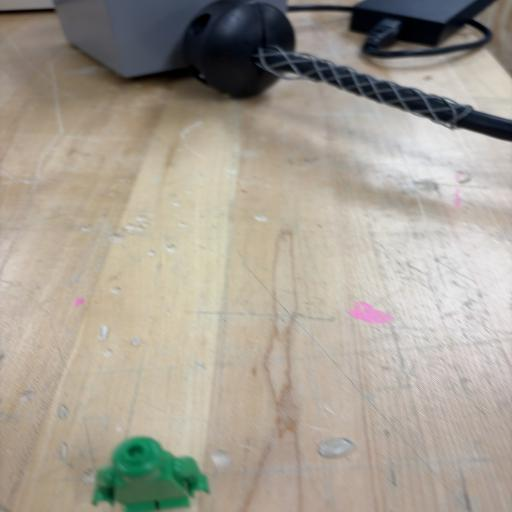Green-Lego: (92, 437, 198, 512)
